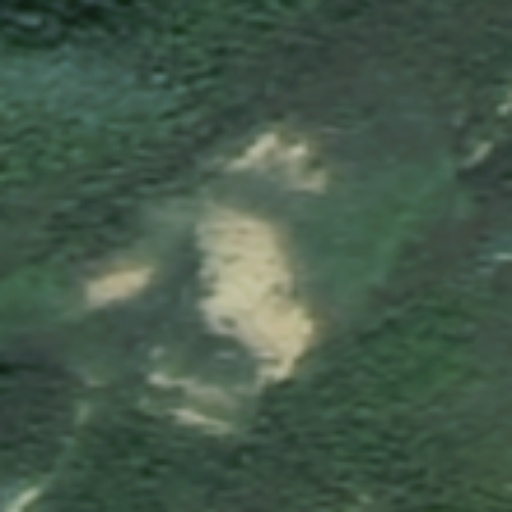landslide: (196, 210, 313, 384), (234, 127, 331, 195), (88, 269, 151, 300)
